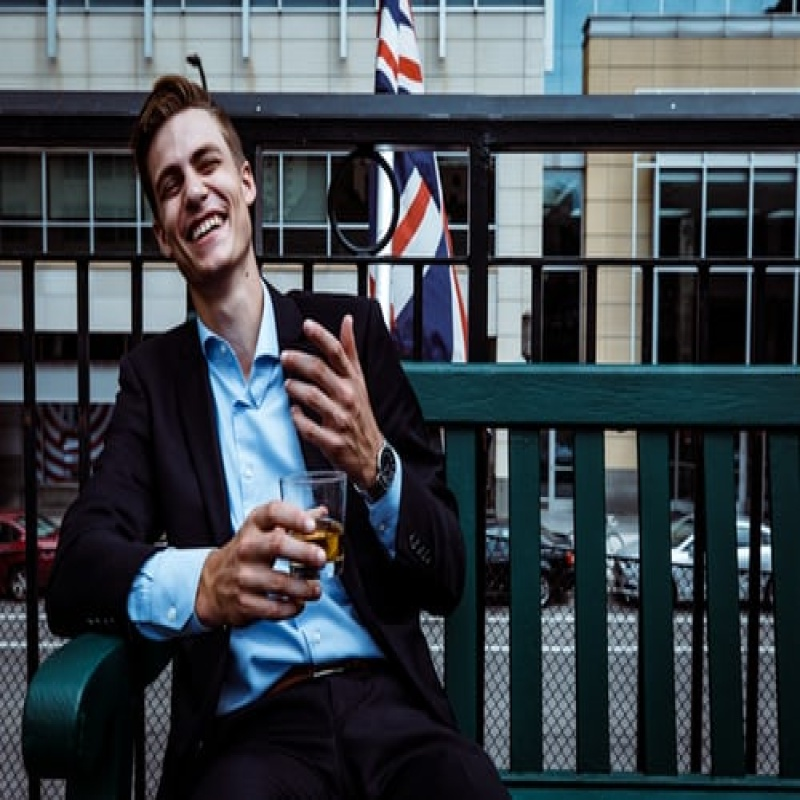whiskey: (282, 466, 354, 582)
